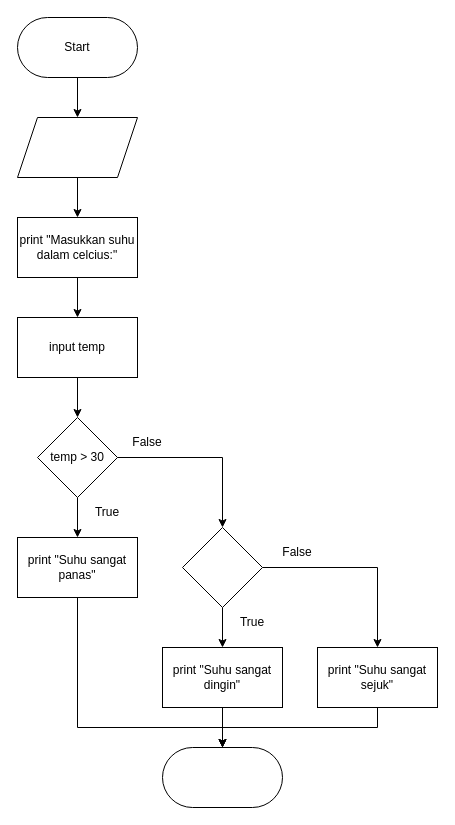
Image size: 455x825. Some labels were removed from this diagram. Here are the shapes that lost their labels. From the top down, the box of each, then its label:
(16, 116, 138, 178): int temp
(182, 526, 262, 608): temp < 0
(162, 746, 282, 808): End
